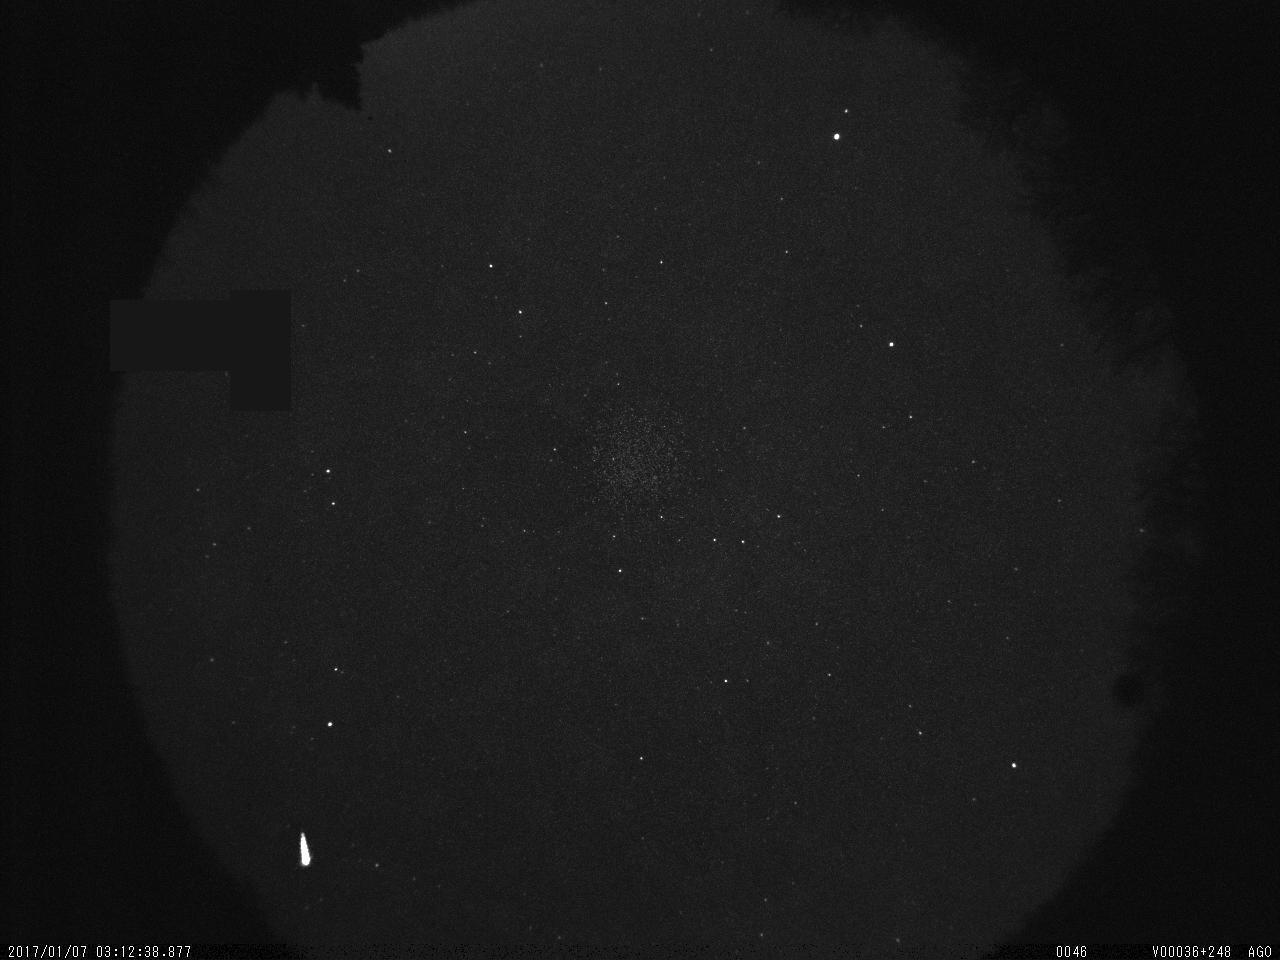Meteor: (297, 828, 313, 865)
